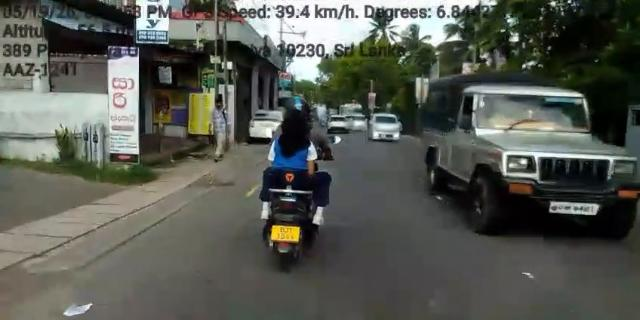no helmet: (282, 109, 307, 134)
number plate: (269, 224, 305, 246)
